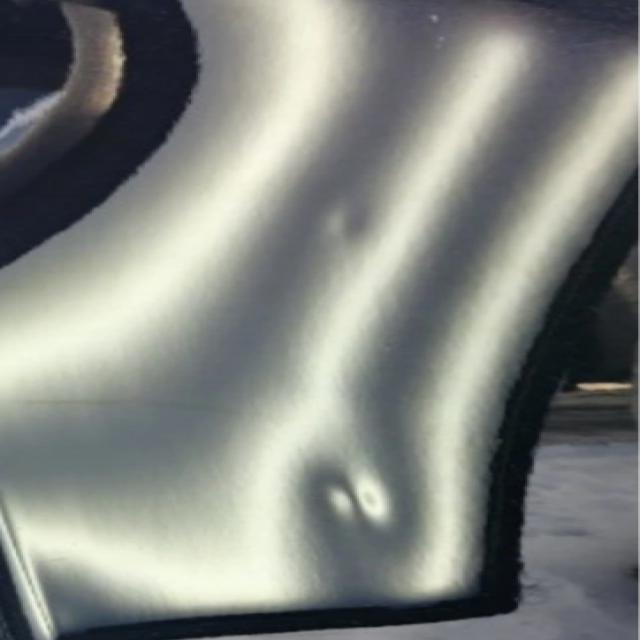dents: (284, 436, 504, 590), (311, 180, 460, 273)
